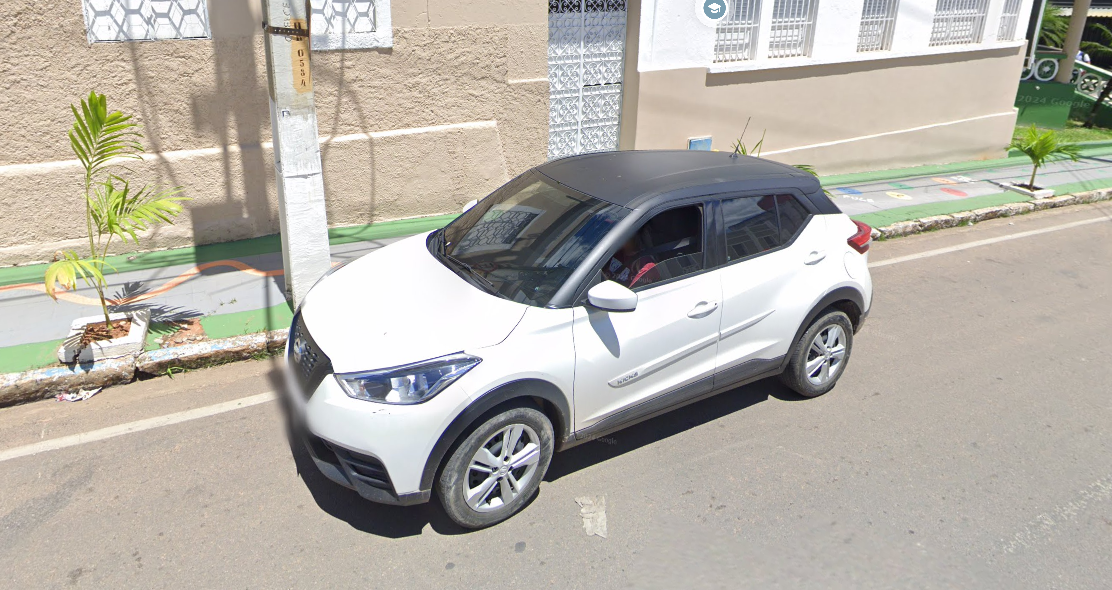car: (284, 115, 882, 536)
